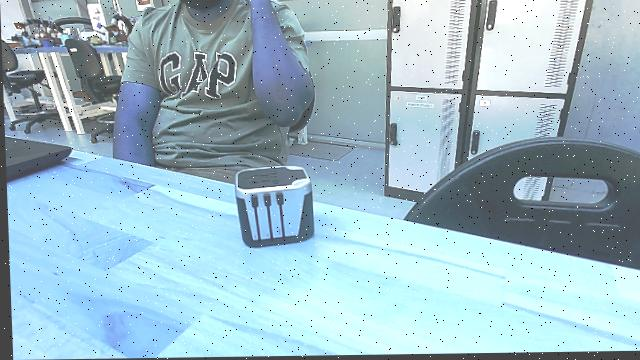adapter: (231, 164, 319, 250)
